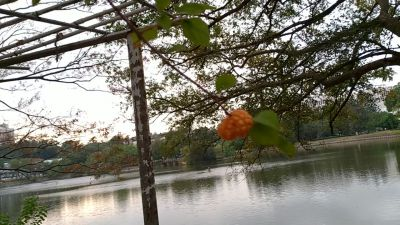eggs: (217, 108, 255, 142)
